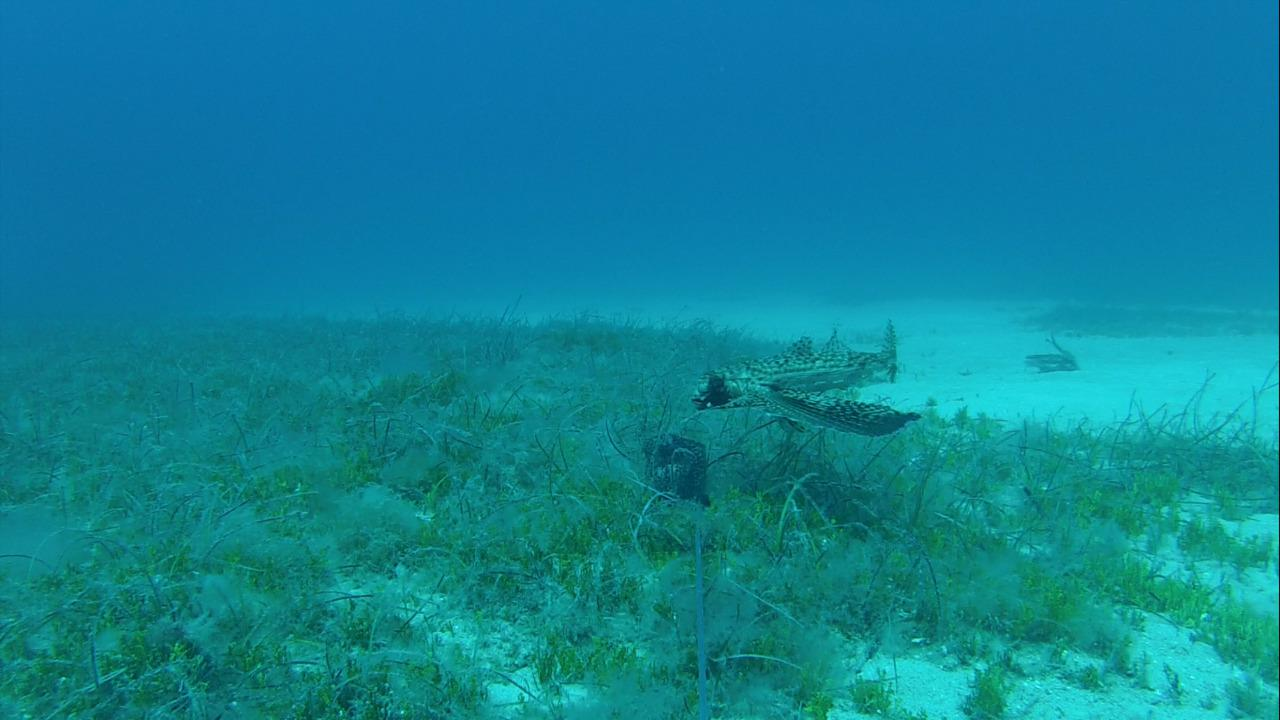dactylopterus: (684, 314, 920, 434)
